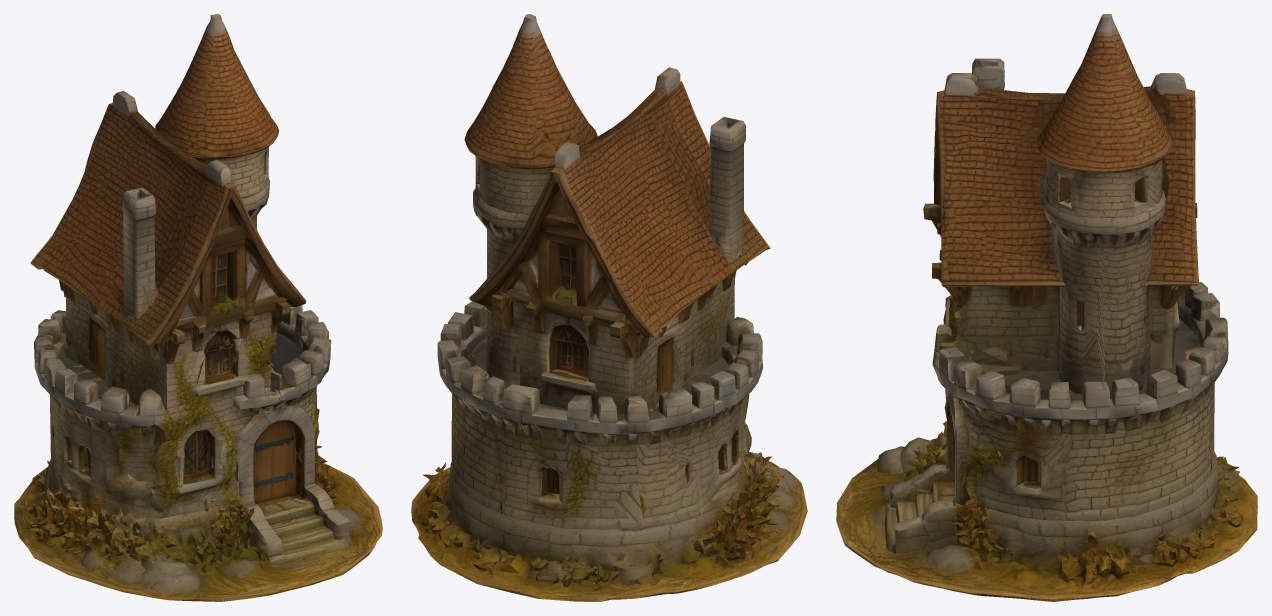
Rendered from casa-torre.glb.
The picture shows the model from 3 angles, left to right: view 1: azimuth 30°, elevation 25°; view 2: azimuth 150°, elevation 25°; view 3: azimuth 270°, elevation 25°; orthographic projection. The views are drawn at different scales.
Visible parts, largest first — view 1: textured_mesh.obj; view 2: textured_mesh.obj; view 3: textured_mesh.obj.
Boxes of the visible parts, left/top/right/bottom form: textured_mesh.obj: left=14, top=14, right=382, bottom=601; textured_mesh.obj: left=411, top=14, right=807, bottom=601; textured_mesh.obj: left=836, top=14, right=1257, bottom=601.
Bounding box in the file's own units: 7.07 × 10 × 7.27.
Materials: 1 (1 with a texture image).
